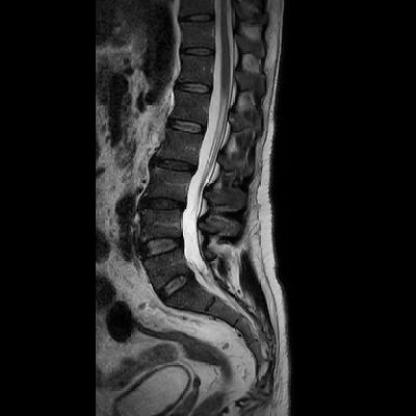Degenerative Disc Diseaserotation: (143, 195, 184, 217), (153, 156, 196, 174)
Disc Bulgerotation: (138, 234, 183, 258), (143, 195, 184, 217), (153, 156, 196, 174)
